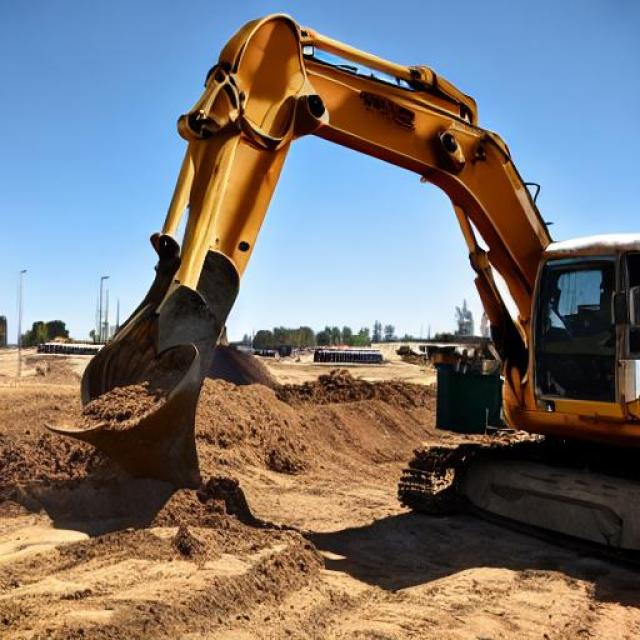excavator: (107, 190, 463, 530)
